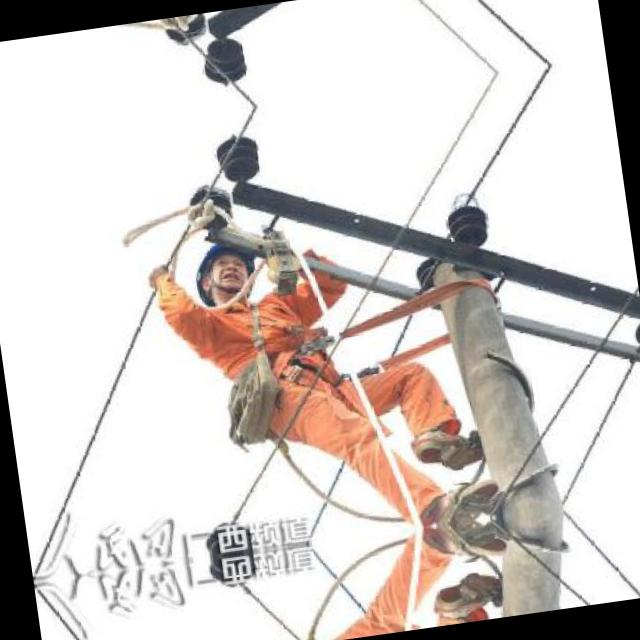helmet: (180, 220, 266, 320)
